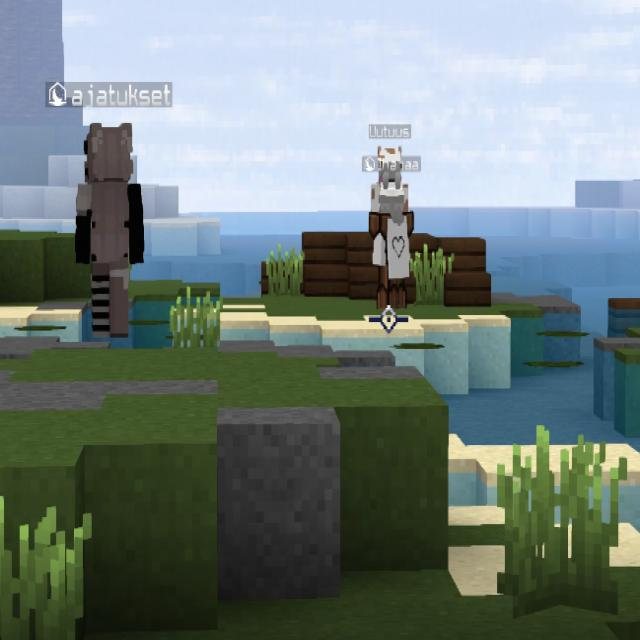Player: (74, 122, 146, 338), (369, 190, 414, 310)
